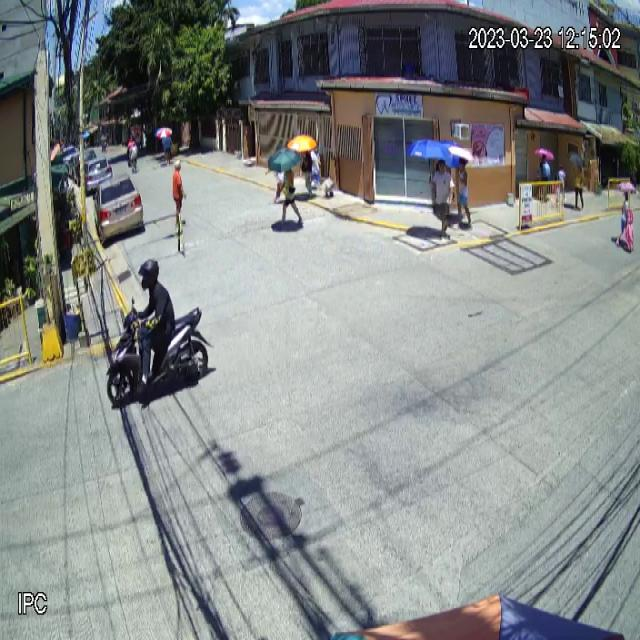Car: (92, 172, 144, 246)
Motorcycle: (106, 294, 215, 408)
